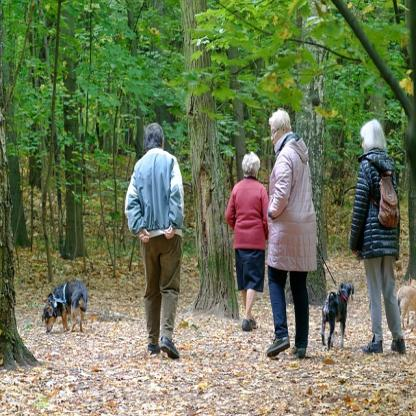not_lay: (124, 123, 184, 360), (350, 120, 405, 355), (267, 117, 317, 359), (224, 152, 268, 331)
